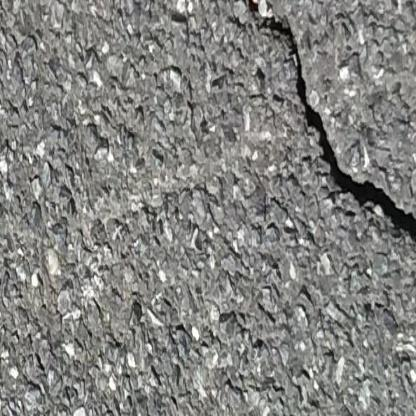Cracks: (214, 0, 416, 258)
